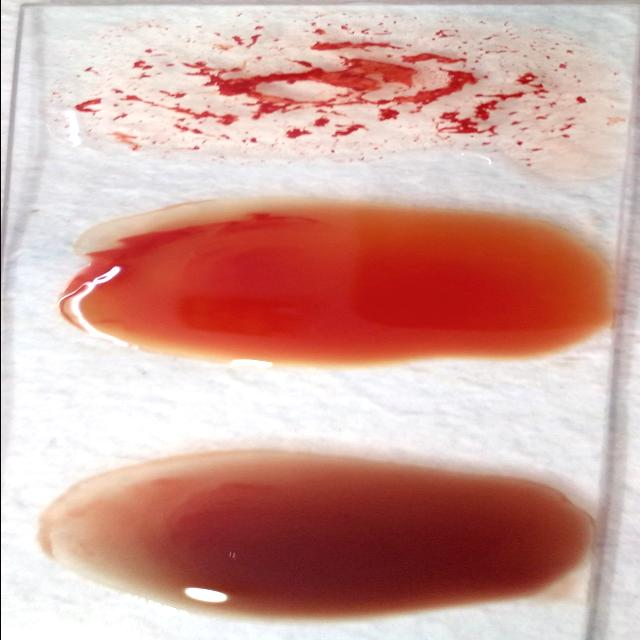D: (52, 15, 606, 165)
